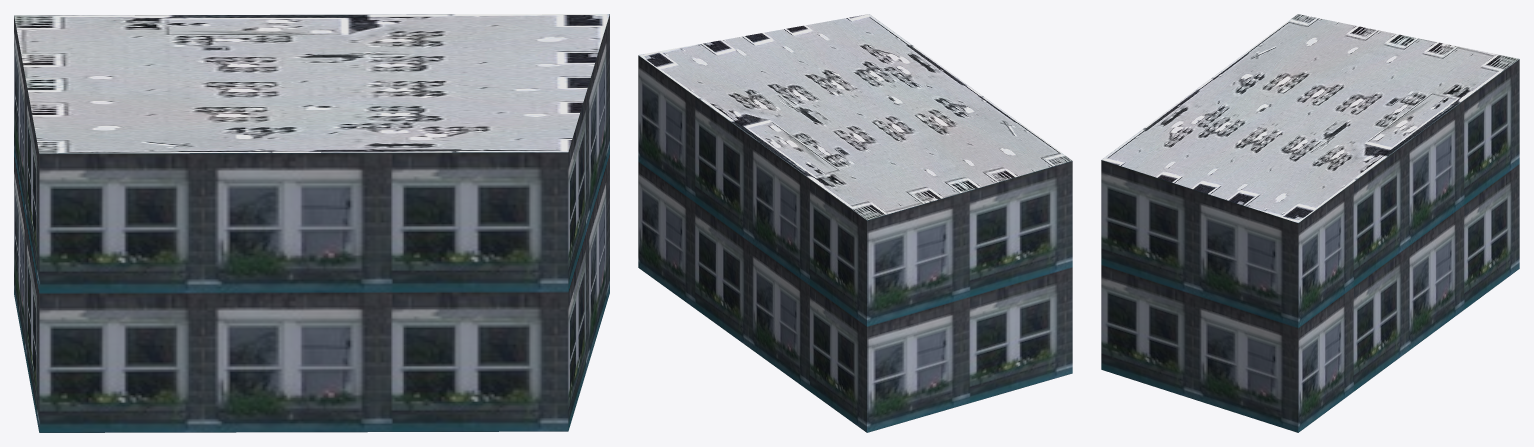
The model's file is ResTex__902.fbx.
3 renders of one model, left to right at view 1: azimuth 30°, elevation 25°; view 2: azimuth 150°, elevation 25°; view 3: azimuth 270°, elevation 25°, orthographic. The views are drawn at different scales.
Parts seen in each view (by area): view 1: CityEngineMaterial_11_m, CityEngineMaterial_4_m; view 2: CityEngineMaterial_11_m, CityEngineMaterial_4_m; view 3: CityEngineMaterial_11_m, CityEngineMaterial_4_m.
Boxes of the visible parts, x1,y1,x2,y2 form: CityEngineMaterial_11_m: [14, 14, 609, 432]; CityEngineMaterial_4_m: [14, 14, 609, 153]; CityEngineMaterial_11_m: [638, 55, 1072, 432]; CityEngineMaterial_4_m: [638, 14, 1072, 220]; CityEngineMaterial_11_m: [1101, 59, 1519, 432]; CityEngineMaterial_4_m: [1101, 14, 1518, 222].
Size of the model in its own units: 12.83 by 6 by 10.85.
2 materials, 2 textured.
